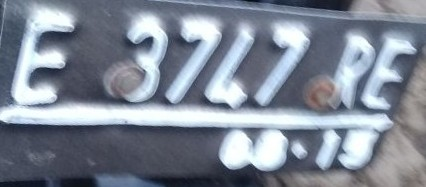plate: (2, 1, 424, 178)
